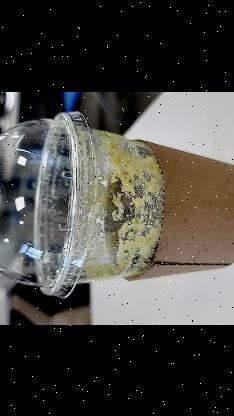Others: (0, 105, 234, 305), (0, 108, 94, 297)
